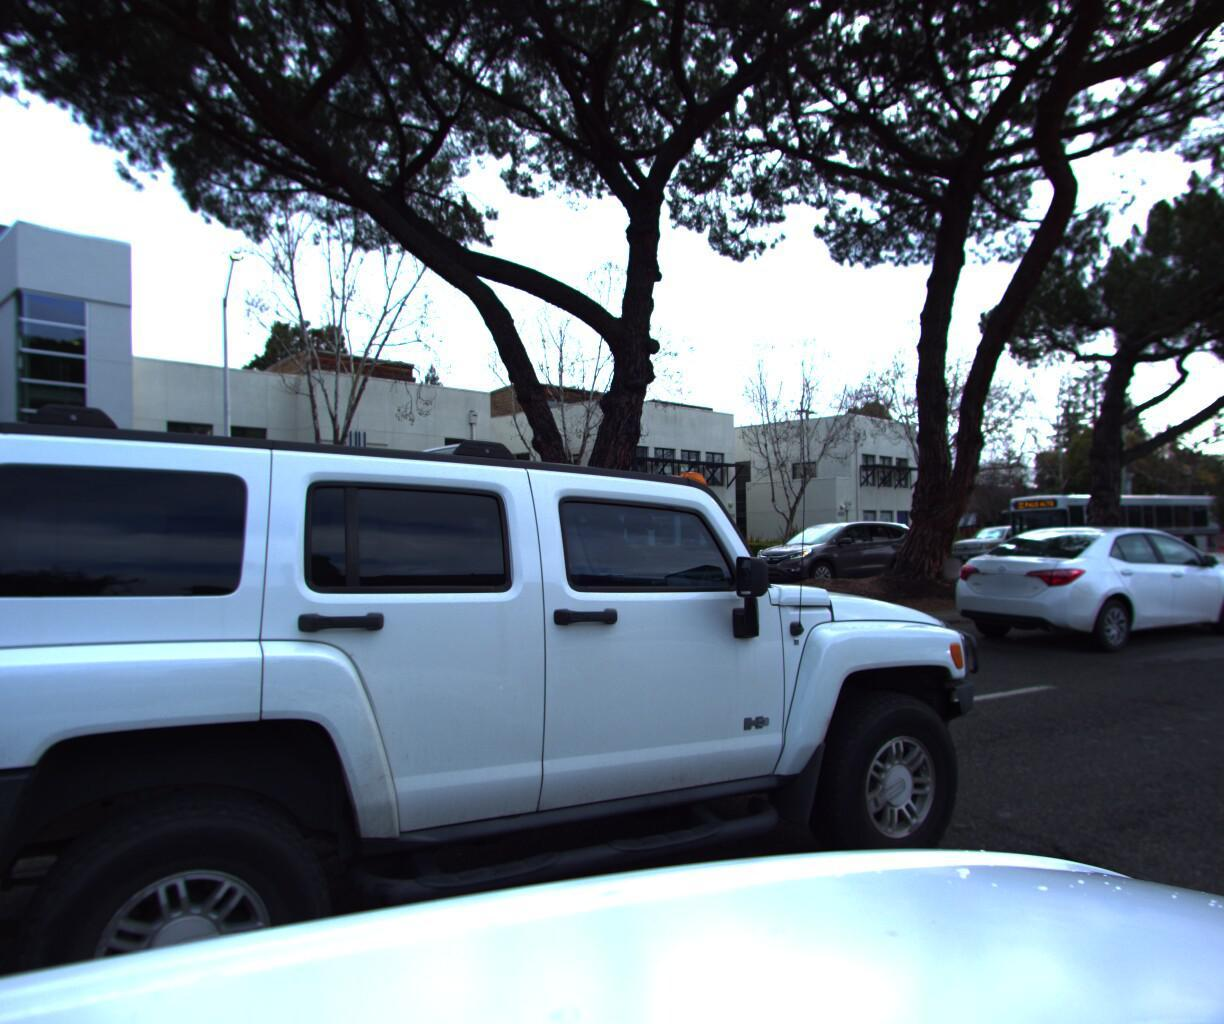bus: (993, 500, 1224, 573)
car: (0, 278, 1011, 1024), (925, 517, 1224, 662), (737, 519, 929, 592), (942, 529, 1062, 574)
